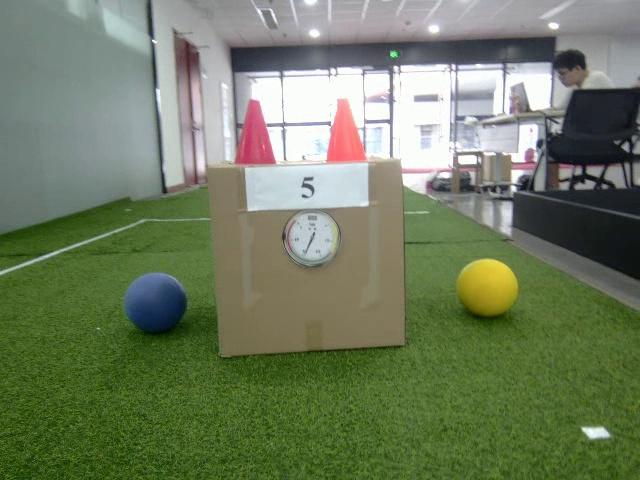5: (297, 176, 317, 200)
Dashboard: (280, 208, 344, 271)
blue_ball: (125, 273, 187, 335)
orange_barrel: (324, 96, 368, 163)
red_barrel: (231, 97, 277, 165)
ssi: (307, 214, 318, 222)
yellow_ball: (456, 257, 518, 318)
